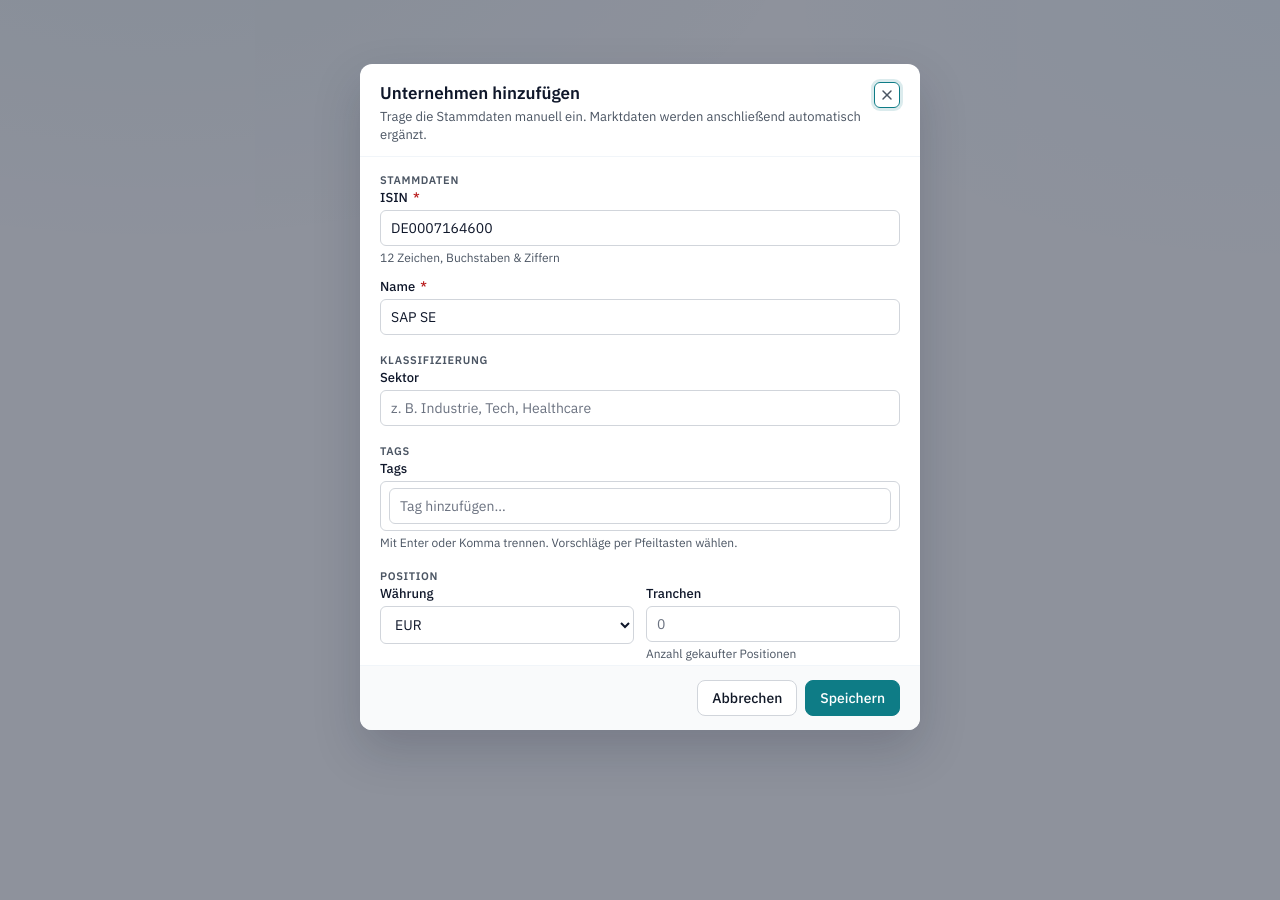
CreateStockModal › disables the save button while the POST request is in flight
The width and height of the screenshot is (1280, 900).
Click the button "Speichern": click(853, 698) x1=805 y1=680 x2=900 y2=716
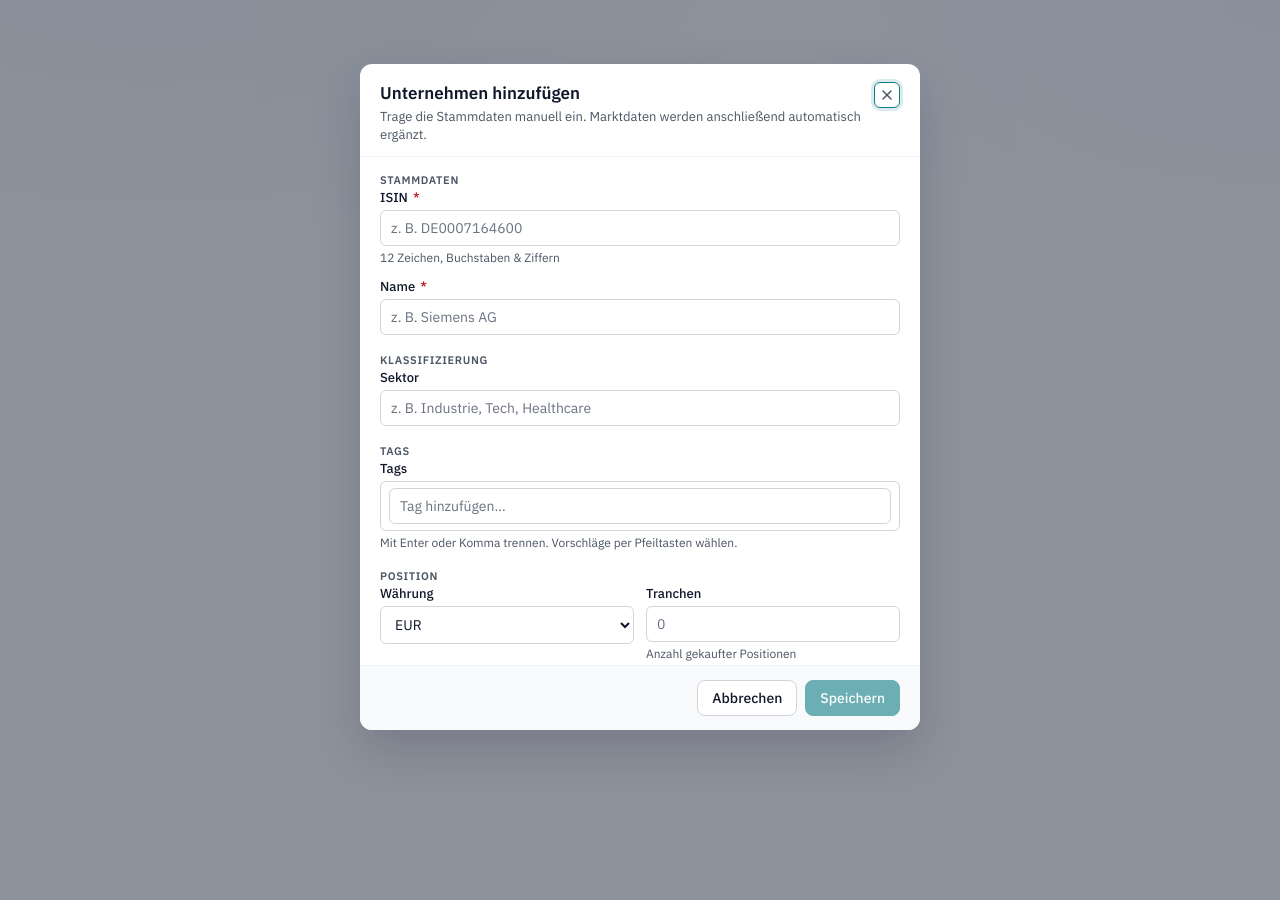
Expected: the button named "speichern…" is disabled, x1=805 y1=680 x2=900 y2=716
